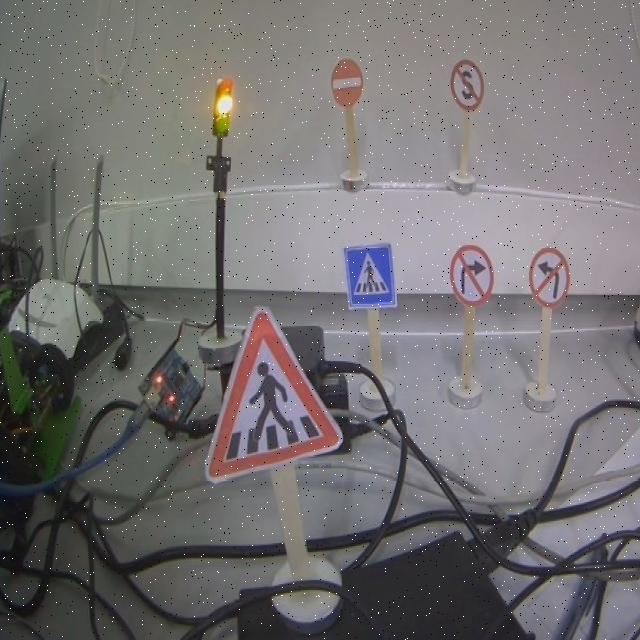Dilarang Belok Kanan: (450, 245, 494, 304)
Dilarang Belok Kiri: (529, 248, 570, 307)
Dilarang Masuk: (330, 59, 363, 107)
Lampu Kuning: (212, 76, 233, 138)
Rambu Berhenti: (450, 58, 484, 108)
Rambu Penyebrangan: (203, 307, 342, 481), (343, 242, 396, 310)
